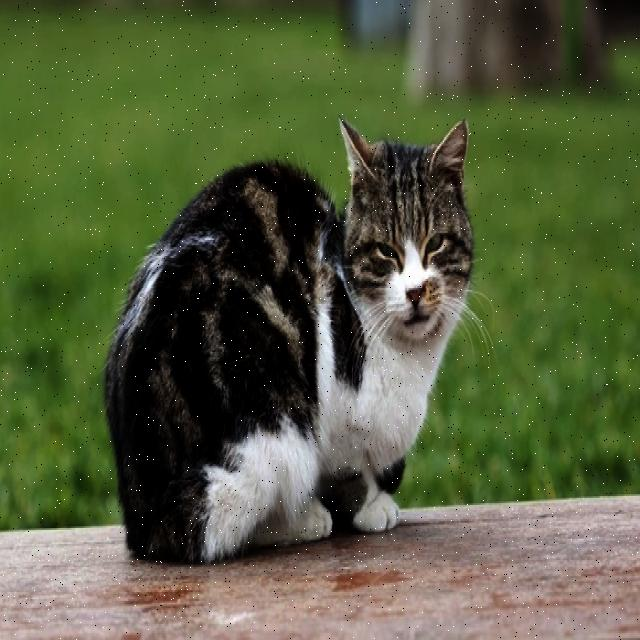cat: (105, 121, 474, 561)
